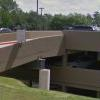Bridge: (5, 18, 93, 79)
